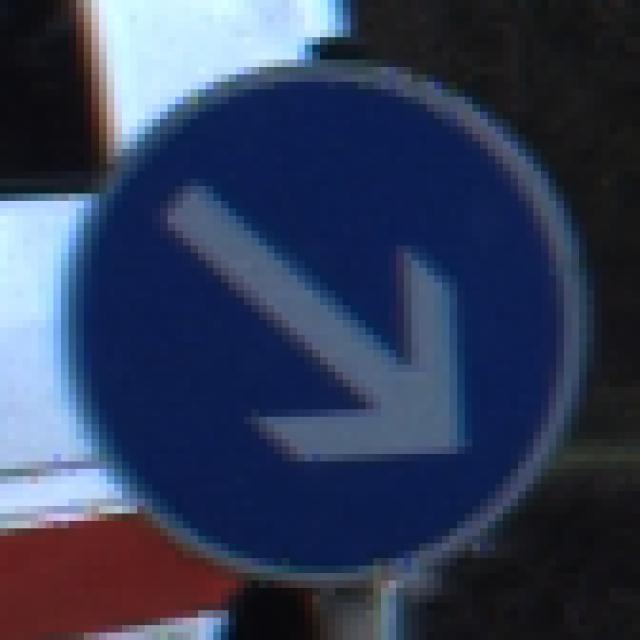compulsary keep right: (54, 47, 586, 578)
